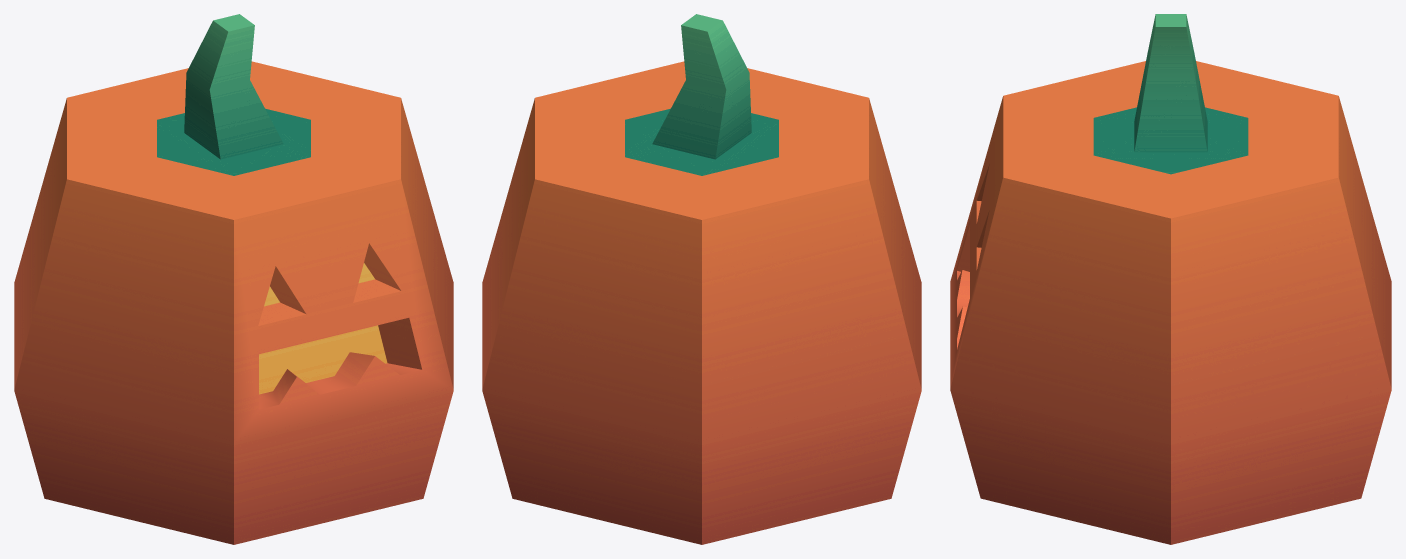
The model's file is pumpkin-tall-carved.glb.
The picture shows the model from 3 angles, left to right: view 1: azimuth 30°, elevation 25°; view 2: azimuth 150°, elevation 25°; view 3: azimuth 270°, elevation 25°; orthographic projection.
Parts seen in each view (by area): view 1: pumpkin-tall-carved; view 2: pumpkin-tall-carved; view 3: pumpkin-tall-carved.
Part boxes in pixels (x1,y1,x2,y2): pumpkin-tall-carved: (14, 14, 453, 544); pumpkin-tall-carved: (482, 14, 921, 544); pumpkin-tall-carved: (950, 14, 1391, 544).
Bounding box in the file's own units: 0.8352 × 0.78 × 0.7233.
Materials: 1 (1 with a texture image).
